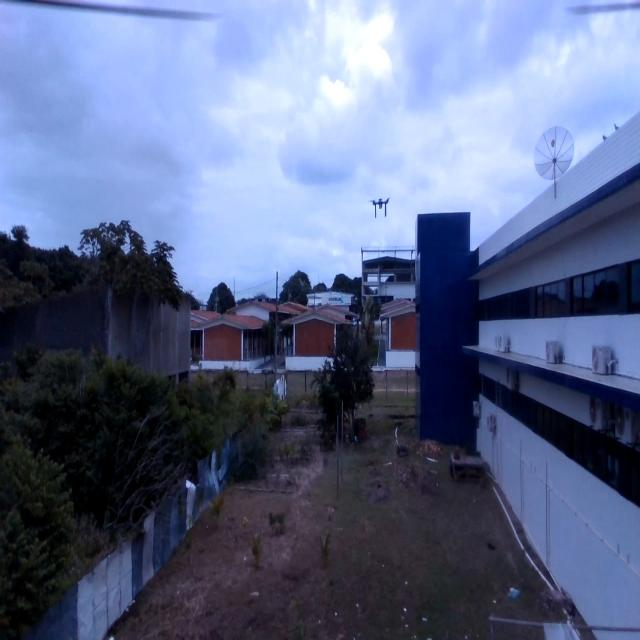-uav-: (365, 188, 394, 230)
